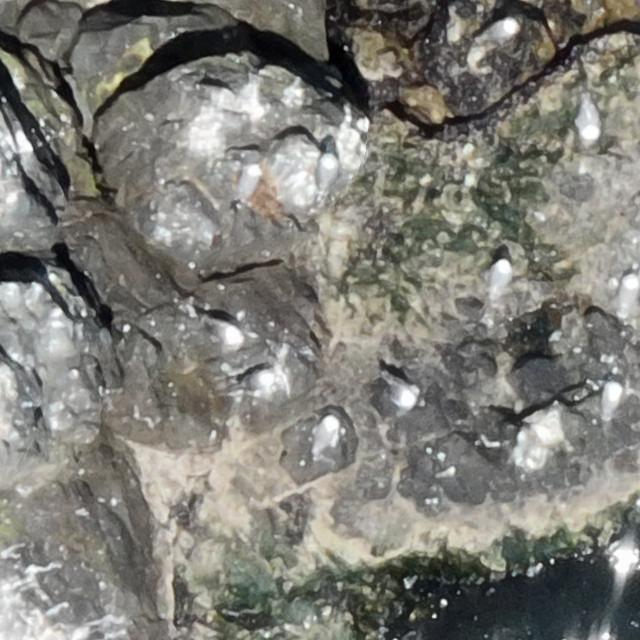umineko: (202, 311, 241, 347), (315, 150, 341, 202), (617, 273, 640, 323), (312, 414, 342, 452), (233, 368, 275, 394), (578, 92, 600, 140), (388, 375, 418, 409), (599, 383, 621, 426), (481, 19, 517, 42), (489, 258, 512, 291), (240, 167, 260, 199)
